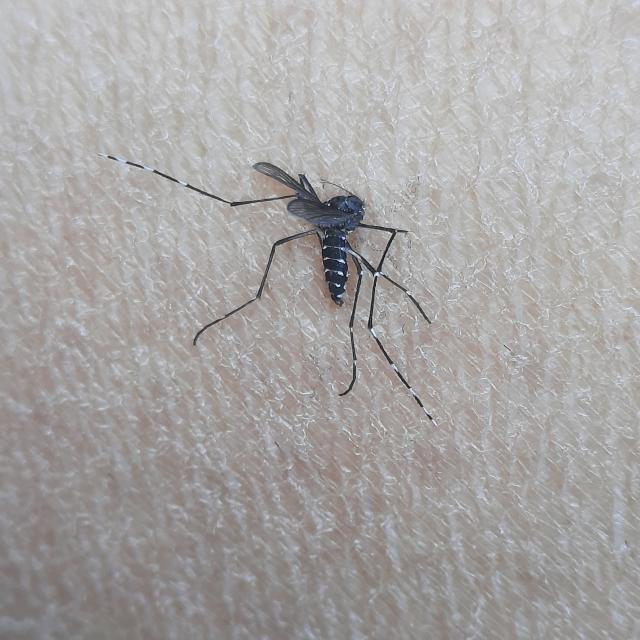albopictus: (95, 125, 452, 430)
